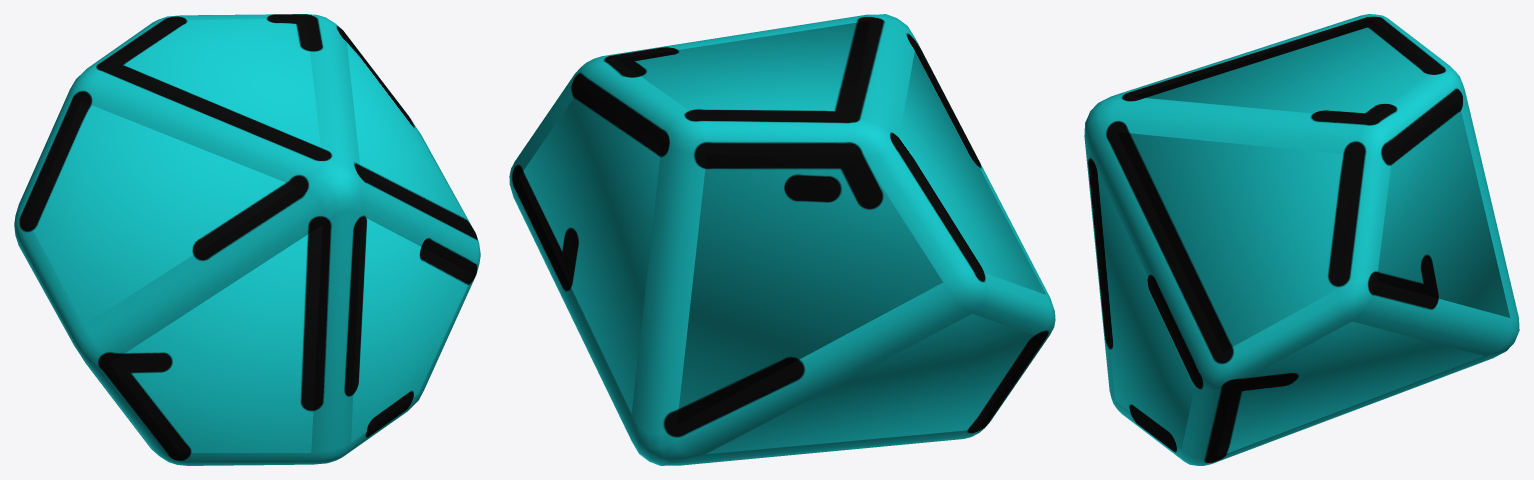
The picture shows the model from 3 angles, left to right: view 1: azimuth 30°, elevation 25°; view 2: azimuth 150°, elevation 25°; view 3: azimuth 270°, elevation 25°; orthographic projection. The views are drawn at different scales.
Parts seen in each view (by area): view 1: Mesh; view 2: Mesh; view 3: Mesh.
Boxes of the visible parts, box(x1,y1,x2,y2) form: Mesh: box(14, 14, 480, 465); Mesh: box(509, 14, 1055, 465); Mesh: box(1084, 14, 1519, 465).
Bounding box in the file's own units: 12.46 × 9.89 × 11.36.
1 material, 1 textured.
